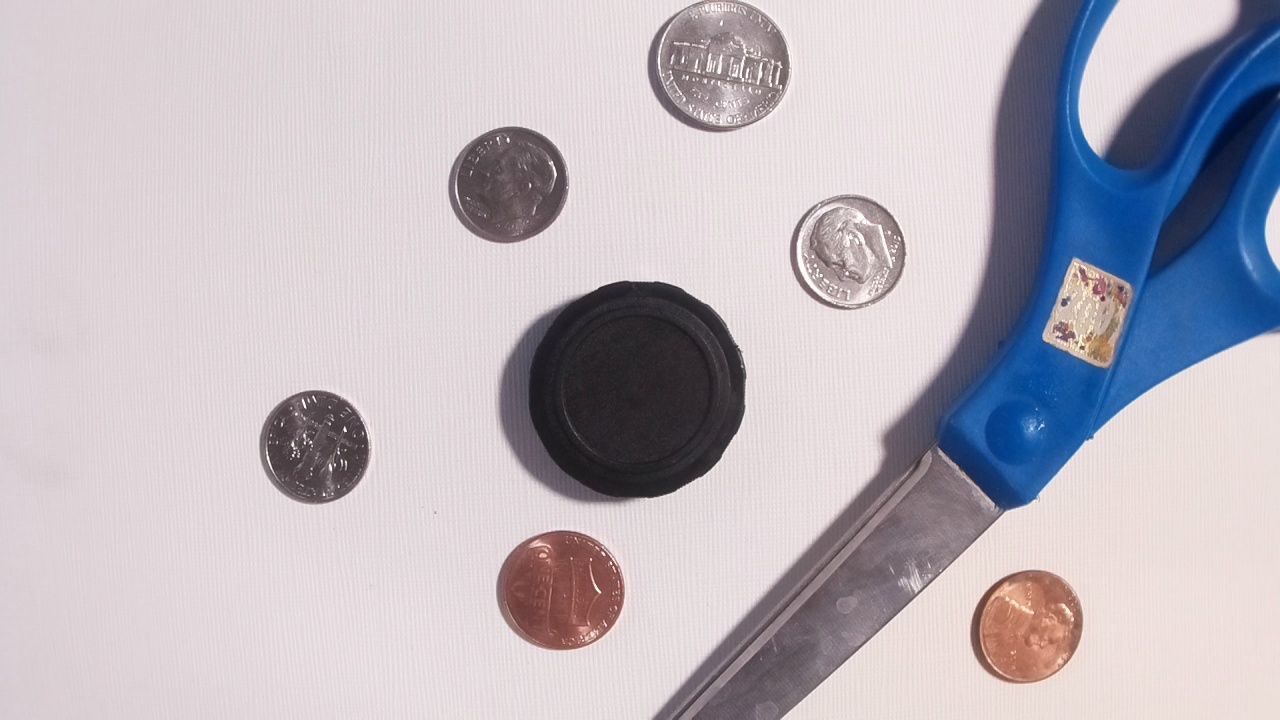dime: (446, 124, 572, 242), (787, 193, 911, 309), (256, 388, 374, 506)
nickel: (646, 1, 798, 133)
penny: (493, 527, 629, 651), (968, 563, 1090, 687)
